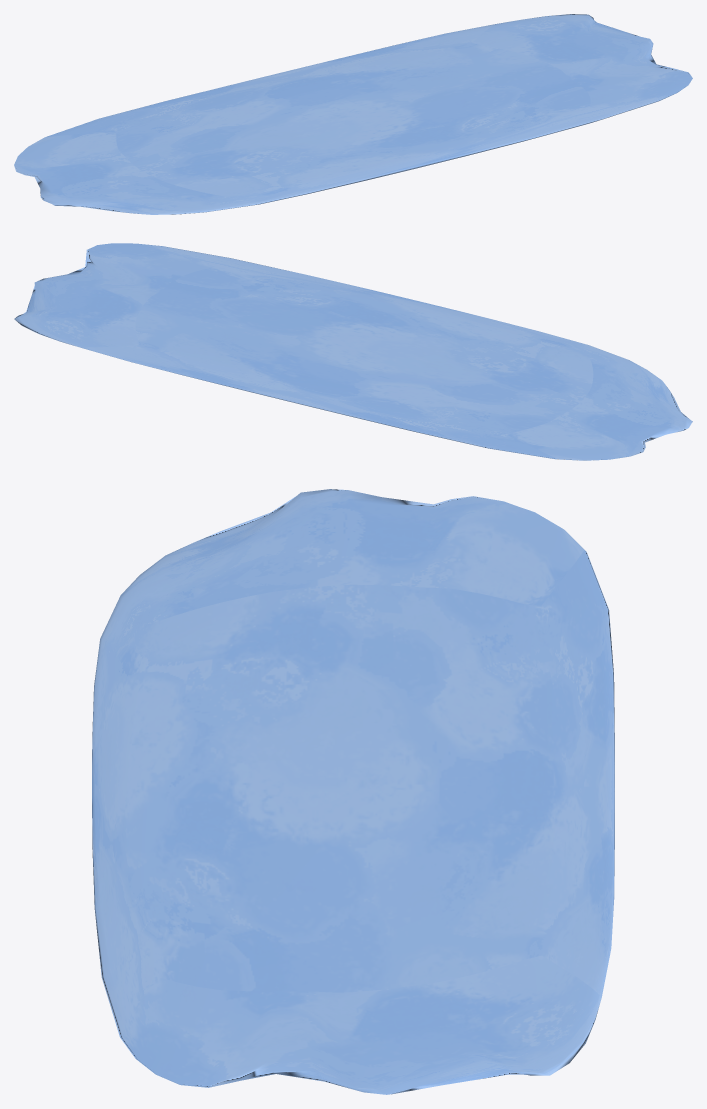
Rendered from Ice Slick.fbx.
The picture shows the model from 3 angles, top to bottom: view 1: azimuth 30°, elevation 25°; view 2: azimuth 150°, elevation 25°; view 3: azimuth 270°, elevation 25°; orthographic projection. The views are drawn at different scales.
Visible parts, largest first — view 1: pCube1; view 2: pCube1; view 3: pCube1.
Part boxes in pixels (x1,y1,x2,y2): pCube1: [14, 14, 692, 214]; pCube1: [14, 243, 692, 460]; pCube1: [92, 489, 614, 1094].
Size of the model in its own units: 16.81 by 0.1225 by 6.13.
